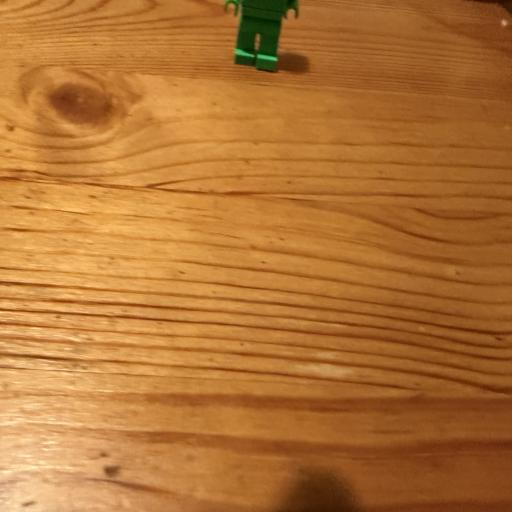Minifig: (224, 0, 299, 72)
